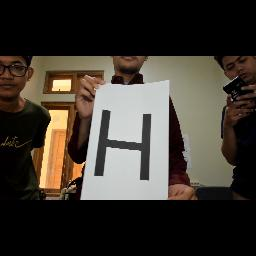h: (90, 104, 160, 190)
